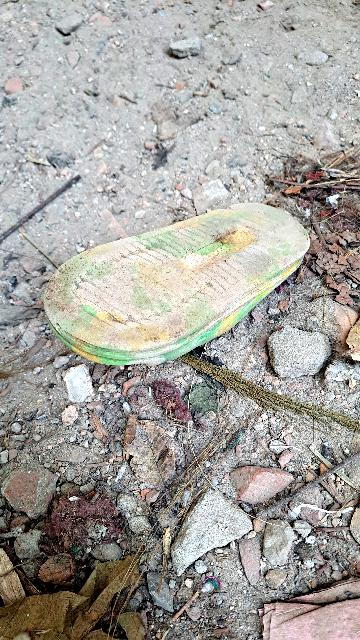sandal: (34, 151, 325, 394)
